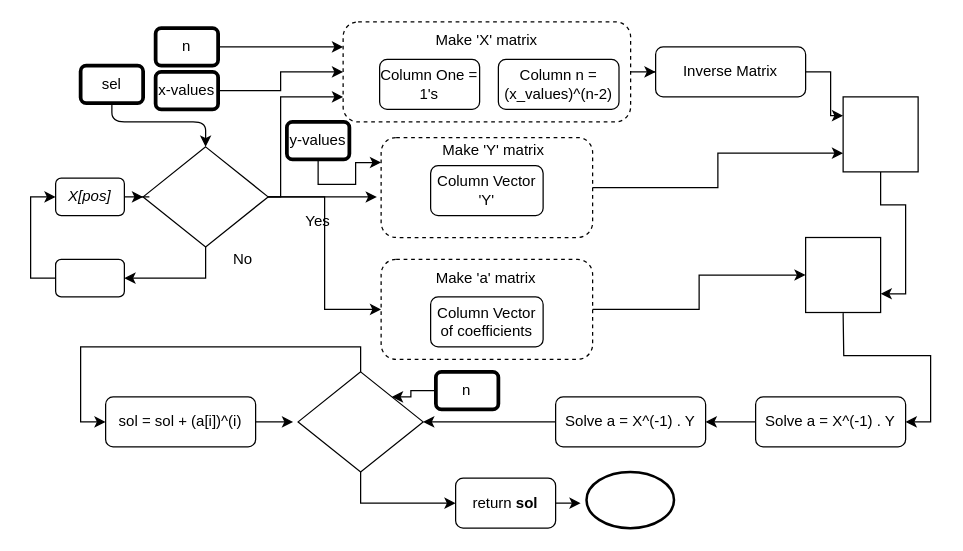
Some shapes in this 963 by 551 pixel diagram are drawn without their labels. The shapes that lost their labels are listed below. From the top down, each one's box as (x1, y1, x2, y2) in pixels, then its label:
(842, 96, 918, 172): dot product
(142, 146, 268, 247): sel > X[ pos ]
(54, 258, 124, 297): pos ++
(804, 236, 881, 312): equals
(297, 371, 423, 472): loop n times using i
(585, 470, 675, 529): output
